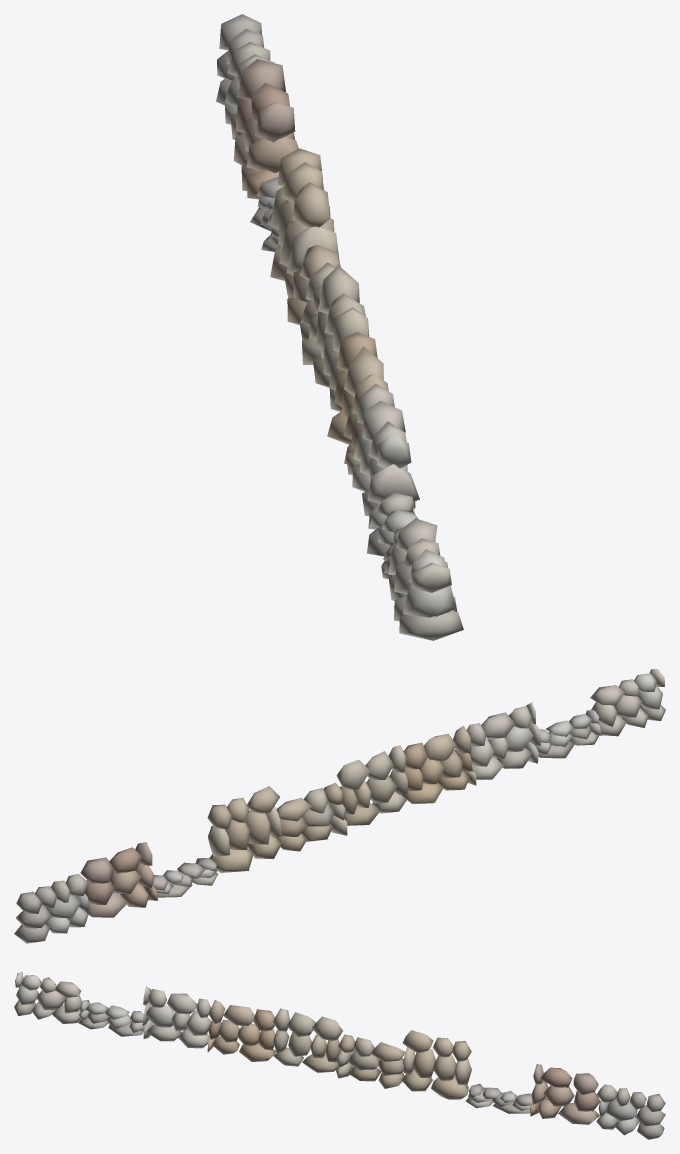
The model's file is farm_3_-3_near.glb.
3 renders of one model, top to bottom at view 1: azimuth 30°, elevation 25°; view 2: azimuth 150°, elevation 25°; view 3: azimuth 270°, elevation 25°, orthographic. The views are drawn at different scales.
Parts seen in each view (by area): view 1: geometry_0; view 2: geometry_0; view 3: geometry_0.
Part boxes in pixels (<box>): geometry_0: <box>216,14,463,640</box>; geometry_0: <box>14,669,665,943</box>; geometry_0: <box>14,972,665,1139</box>.
Bounding box in the file's own units: 6.26 × 1.65 × 14.6.
